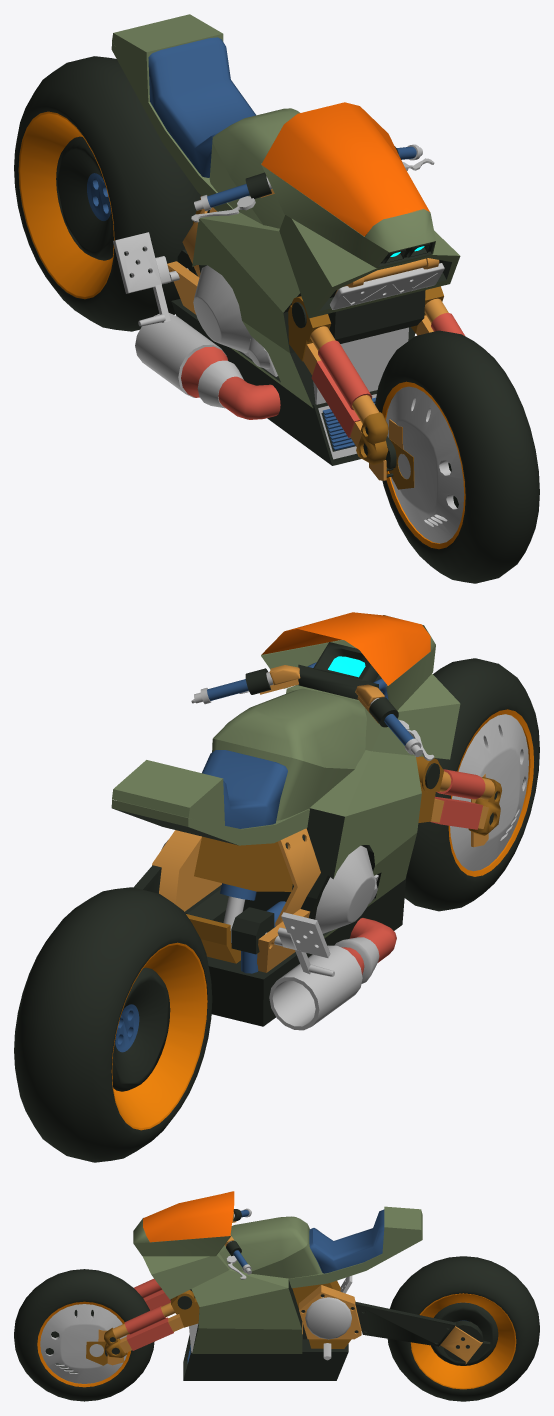
The model's file is ronin.fbx.
The picture shows the model from 3 angles, top to bottom: view 1: azimuth 30°, elevation 25°; view 2: azimuth 150°, elevation 25°; view 3: azimuth 270°, elevation 25°; orthographic projection. The views are drawn at different scales.
Visible parts, largest first — view 1: Circle; view 2: Circle; view 3: Circle.
Part boxes in pixels (box(x1,y1,x2,y2)): Circle: box(14, 14, 539, 583); Circle: box(14, 612, 539, 1162); Circle: box(14, 1191, 539, 1401).
Bounding box in the file's own units: 212 × 309 × 731.
